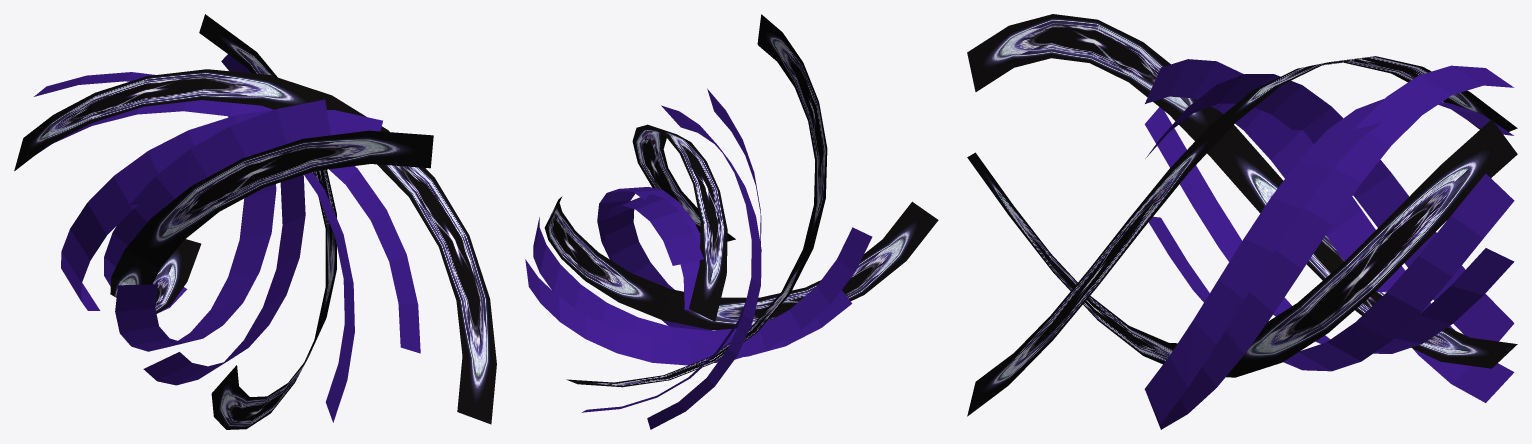
The model's file is tx_priest_mofazhuoshao_fire.obj.
3 renders of one model, left to right at view 1: azimuth 30°, elevation 25°; view 2: azimuth 150°, elevation 25°; view 3: azimuth 270°, elevation 25°, orthographic. The views are drawn at different scales.
Visible parts, largest first — view 1: Plane08, Plane09, Plane06, Plane03, Plane01, Plane05, Plane07, Plane04, Plane02; view 2: Plane07, Plane01, Plane08, Plane09, Plane04, Plane02, Plane03, Plane05, Plane06; view 3: Plane07, Plane09, Plane02, Plane05, Plane04, Plane08, Plane06, Plane03, Plane01.
Part boxes in pixels (<box>): Plane08: <box>14,69,496,424</box>; Plane09: <box>110,130,433,313</box>; Plane06: <box>104,99,330,312</box>; Plane03: <box>61,109,382,310</box>; Plane01: <box>115,116,276,351</box>; Plane05: <box>36,100,420,353</box>; Plane07: <box>199,14,336,429</box>; Plane04: <box>143,54,305,385</box>; Plane02: <box>34,72,354,422</box>; Plane07: <box>544,196,938,329</box>; Plane01: <box>525,227,872,365</box>; Plane08: <box>632,124,735,321</box>; Plane09: <box>566,14,827,387</box>; Plane04: <box>533,217,852,356</box>; Plane02: <box>604,194,711,330</box>; Plane03: <box>647,105,761,429</box>; Plane05: <box>597,187,700,310</box>; Plane06: <box>582,88,761,412</box>; Plane07: <box>967,119,1517,377</box>; Plane09: <box>967,14,1517,368</box>; Plane02: <box>1146,65,1514,429</box>; Plane05: <box>1144,98,1513,423</box>; Plane04: <box>1148,173,1514,371</box>; Plane08: <box>967,56,1517,416</box>; Plane06: <box>1145,59,1514,402</box>; Plane03: <box>1145,74,1514,341</box>; Plane01: <box>1144,107,1514,353</box>.
Size of the model in its own units: 92.21 by 95.85 by 124.
2 materials, 2 textured.
